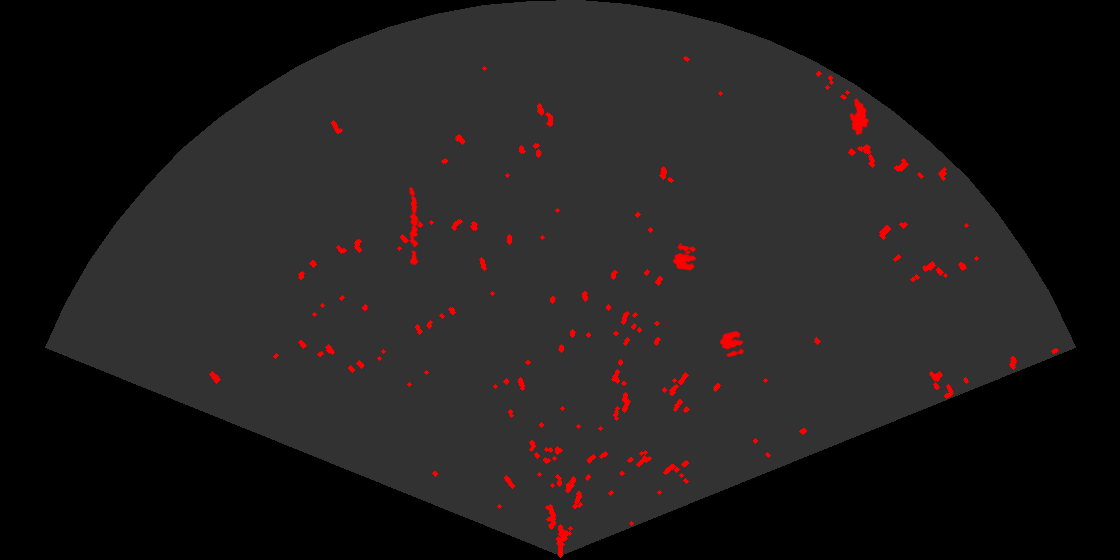AUV: (848, 96, 871, 137)
ball: (718, 329, 746, 359), (671, 244, 698, 272)
chain: (408, 186, 420, 266)
